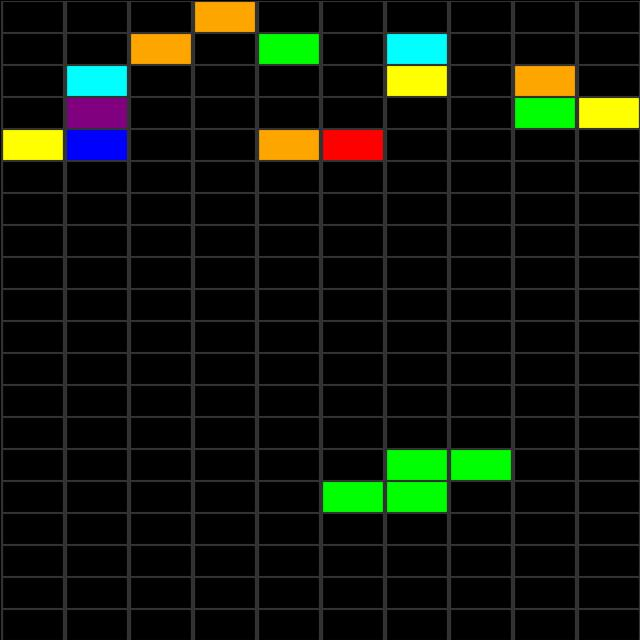Tetrimino_T: (320, 448, 512, 512)
